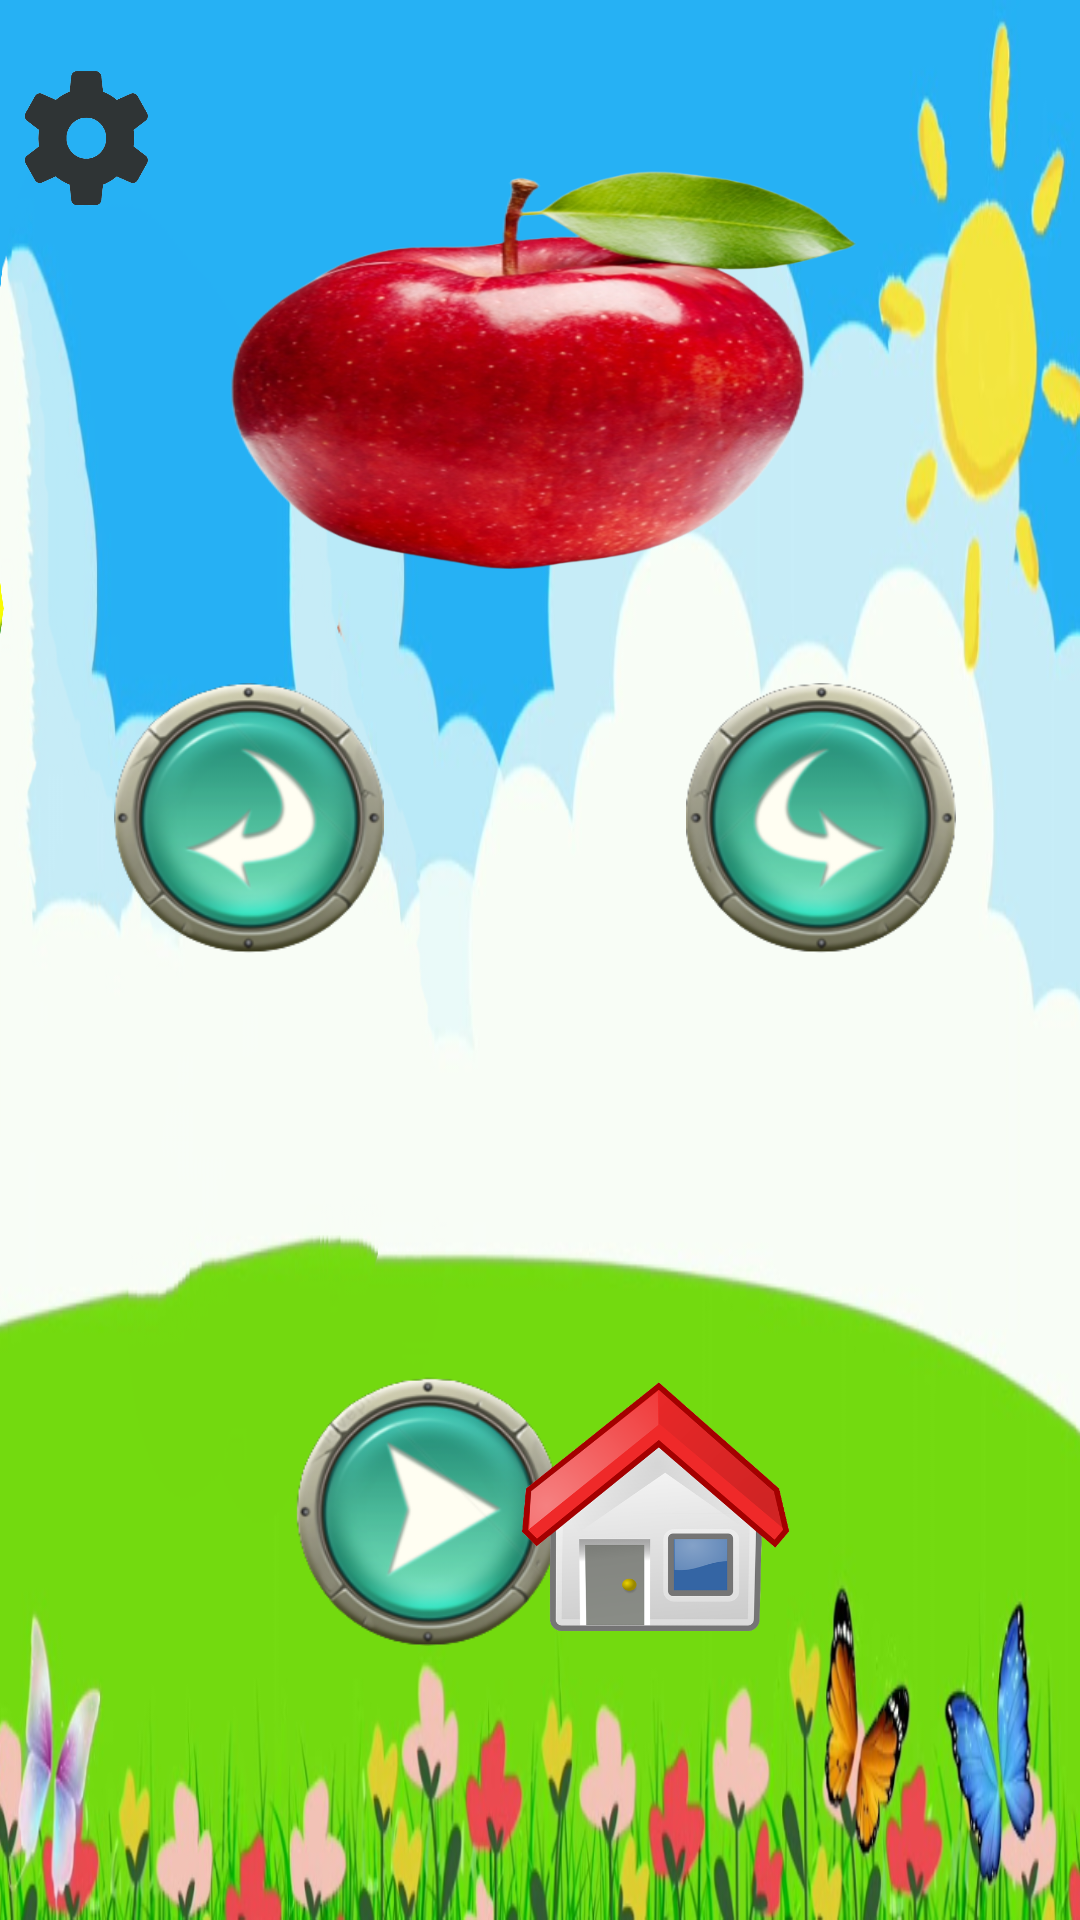

Point at icon controls on the screen. Image size 1080×1920, points as point (x, y).
back: point (249, 818)
home: point (655, 1506)
next: point (821, 817)
play: point (430, 1512)
setting: point (86, 138)
